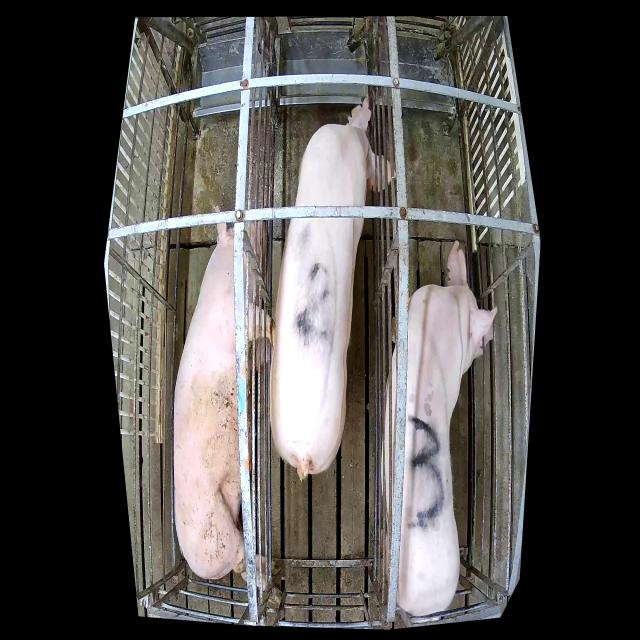pig: (270, 97, 396, 481), (174, 206, 282, 609), (381, 241, 497, 616)
